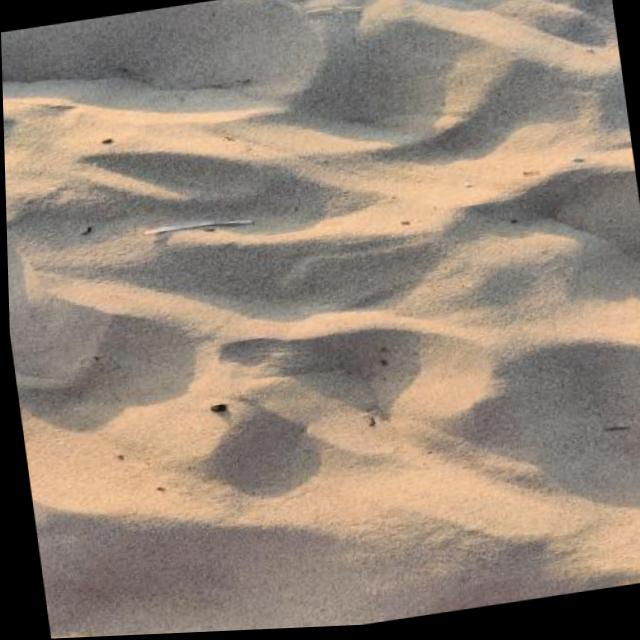plastic: (144, 214, 253, 238)
